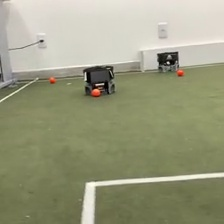ball: (90, 87, 101, 98), (175, 68, 184, 77), (48, 75, 56, 84)
goal: (137, 40, 224, 74)
robot: (80, 63, 118, 98), (155, 50, 180, 73)
